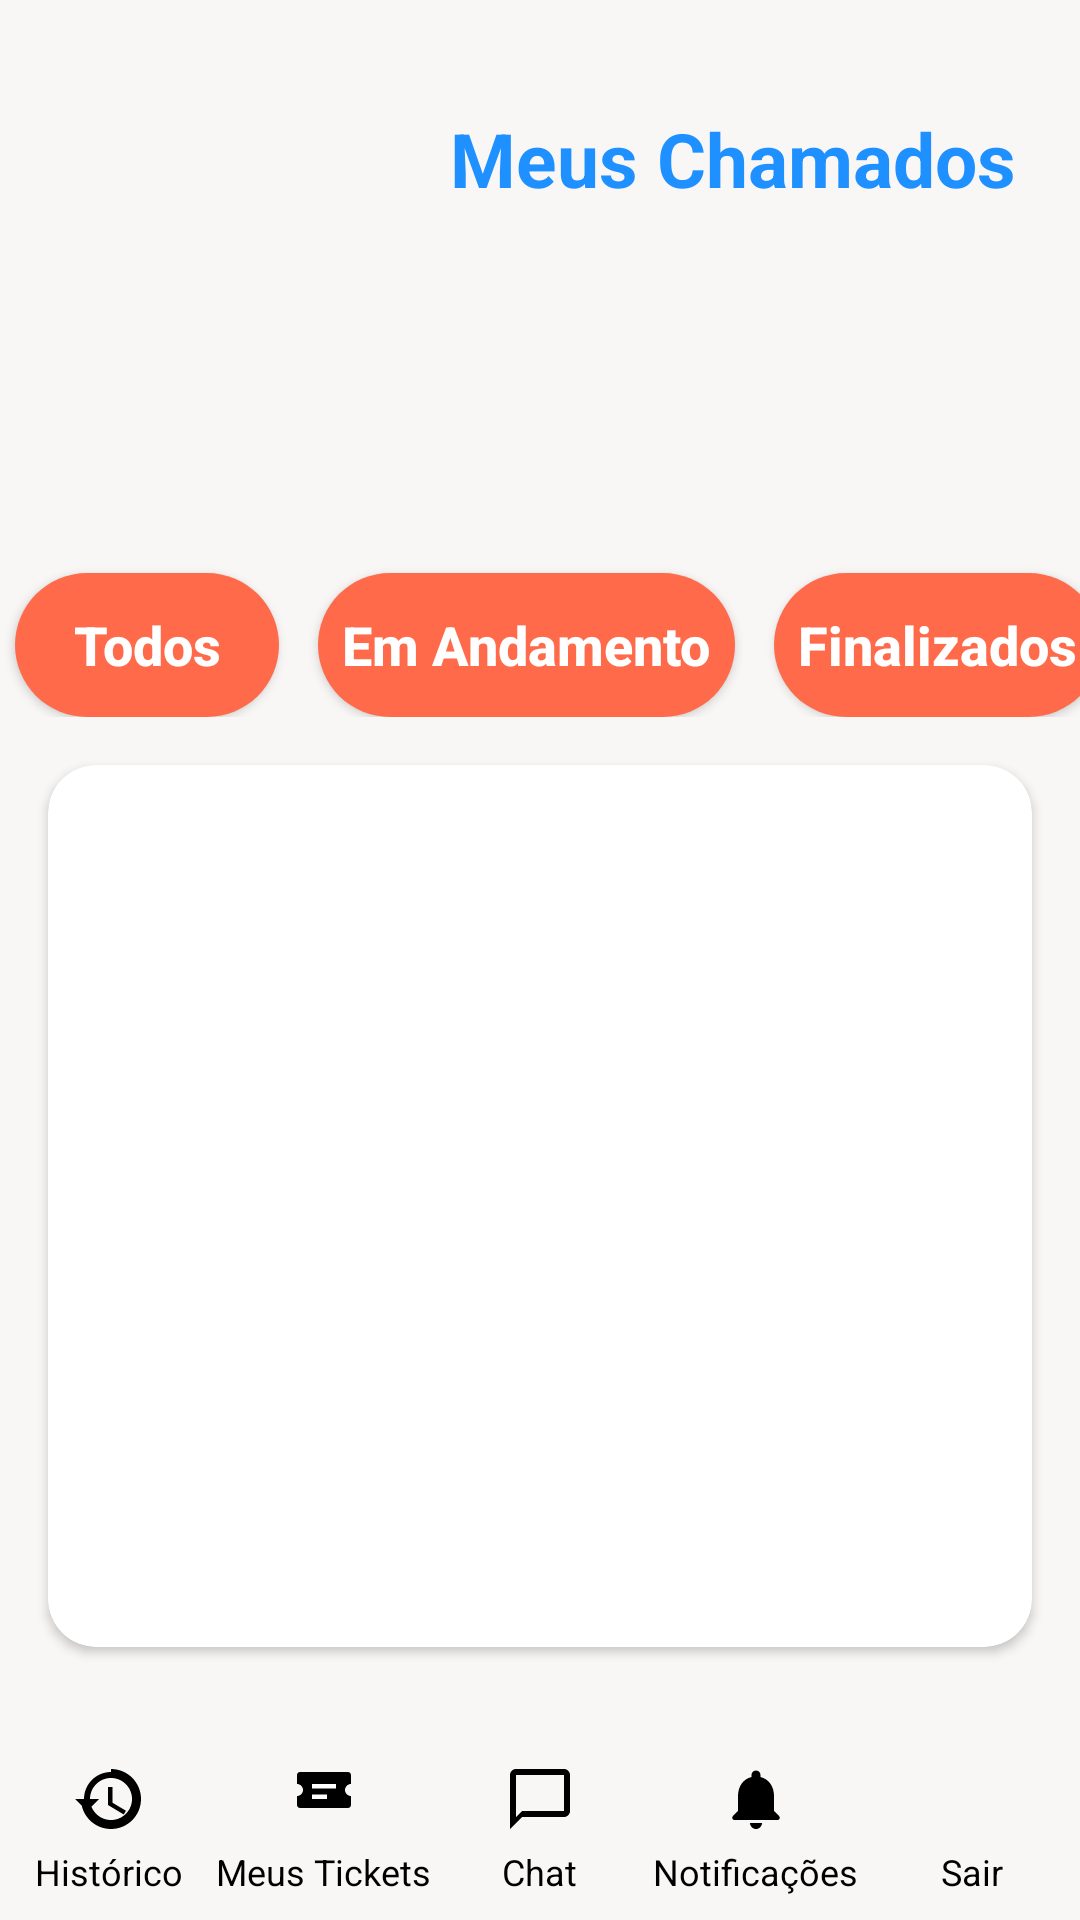

Icons on this 1080x1920 Android screen, each with its box as (x1, y1, x2, y2):
list ticket: (297, 1772, 351, 1808)
